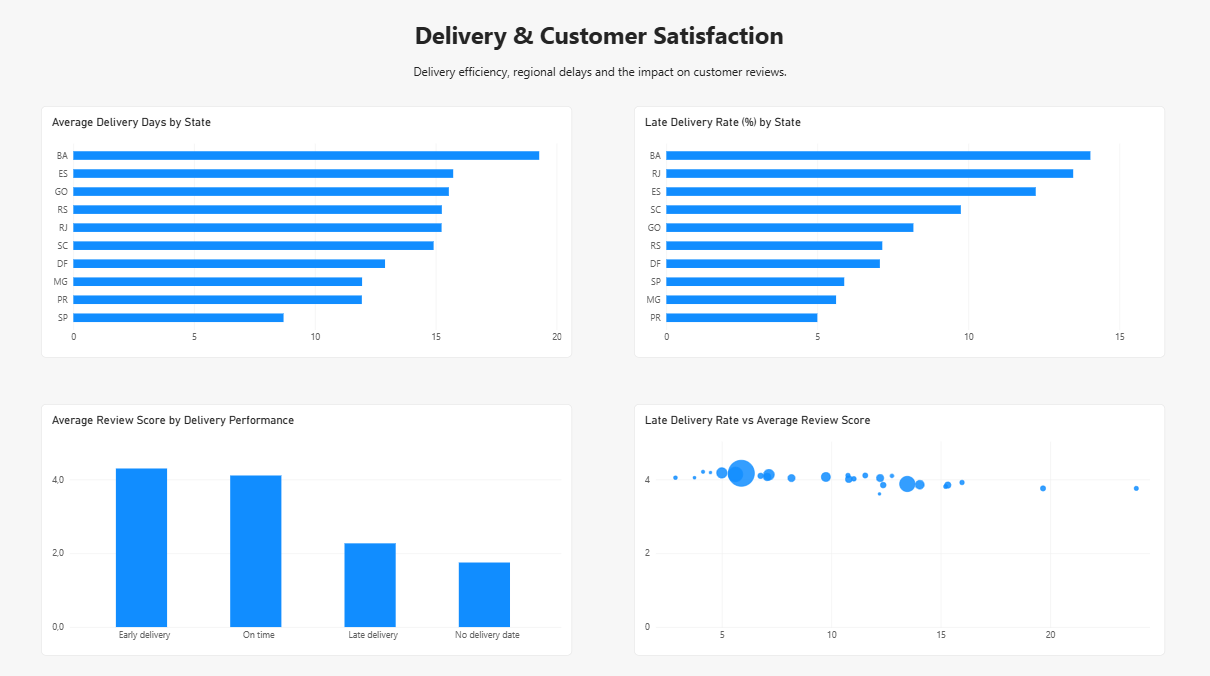

This screenshot's page, from the dashboard's own definition file:
{"tool":"powerbi","page":{"name":"3. Delivery & Customer Satisfaction","canvas":[1920,1080],"ordinal":2},"visuals":[{"type":"textbox","box":[529.8,36.9,842.3,68.8],"z":0},{"type":"textbox","box":[578.8,105.8,747.5,39.7],"z":1000},{"type":"clusteredBarChart","title":"Average Delivery Days by State","fields":{"Category":["05_delivery_performance_by_state.customer_state"],"Y":["Sum(05_delivery_performance_by_state.average_delivery_days)"]},"box":[71.1,173.6,838.4,396.9],"z":2000},{"type":"clusteredBarChart","title":"Late Delivery Rate (%) by State","fields":{"Category":["05_delivery_performance_by_state.customer_state"],"Y":["Sum(05_delivery_performance_by_state.late_delivery_rate_pct)"]},"box":[1007.1,173.6,838.4,396.9],"z":3000},{"type":"clusteredColumnChart","title":"Average Review Score by Delivery Performance","fields":{"Category":["07_review_delivery_relationship.delivery_performance_group"],"Y":["Sum(07_review_delivery_relationship.average_review_score)"]},"box":[71.1,643.3,838.4,396.9],"z":4000},{"type":"scatterChart","title":"Late Delivery Rate vs Average Review Score","fields":{"Category":["05_delivery_performance_by_state.customer_state"],"Size":["Sum(05_delivery_performance_by_state.total_orders)"],"X":["Sum(05_delivery_performance_by_state.late_delivery_rate_pct)"],"Y":["Sum(05_delivery_performance_by_state.average_review_score)"]},"box":[1007.1,643.3,838.4,396.9],"z":5000}]}

Visuals, with their boxes in screenshot pixels (x1, y1, x2, y2), scaled from the page's 1920x1080 canvas onto the 1210x676 screenshot:
textbox: bbox=(334, 23, 865, 66)
textbox: bbox=(365, 66, 836, 91)
"Average Delivery Days by State" clusteredBarChart: bbox=(45, 109, 573, 357)
"Late Delivery Rate (%) by State" clusteredBarChart: bbox=(635, 109, 1163, 357)
"Average Review Score by Delivery Performance" clusteredColumnChart: bbox=(45, 403, 573, 651)
"Late Delivery Rate vs Average Review Score" scatterChart: bbox=(635, 403, 1163, 651)
